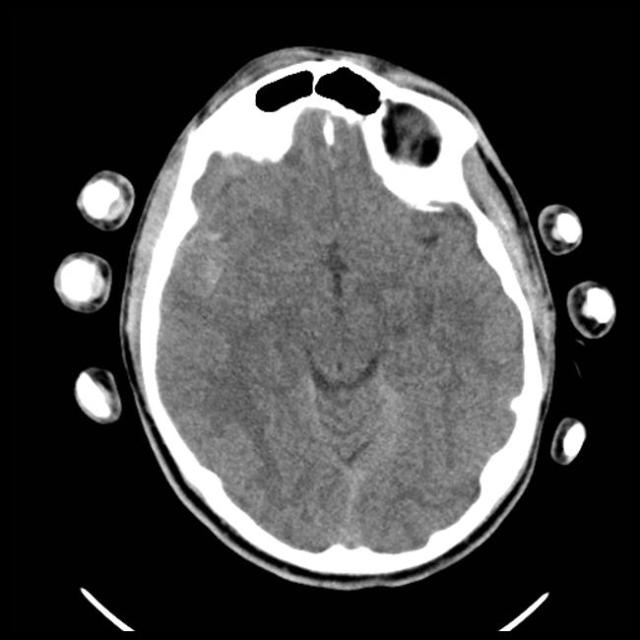lesion: (123, 52, 559, 581)
